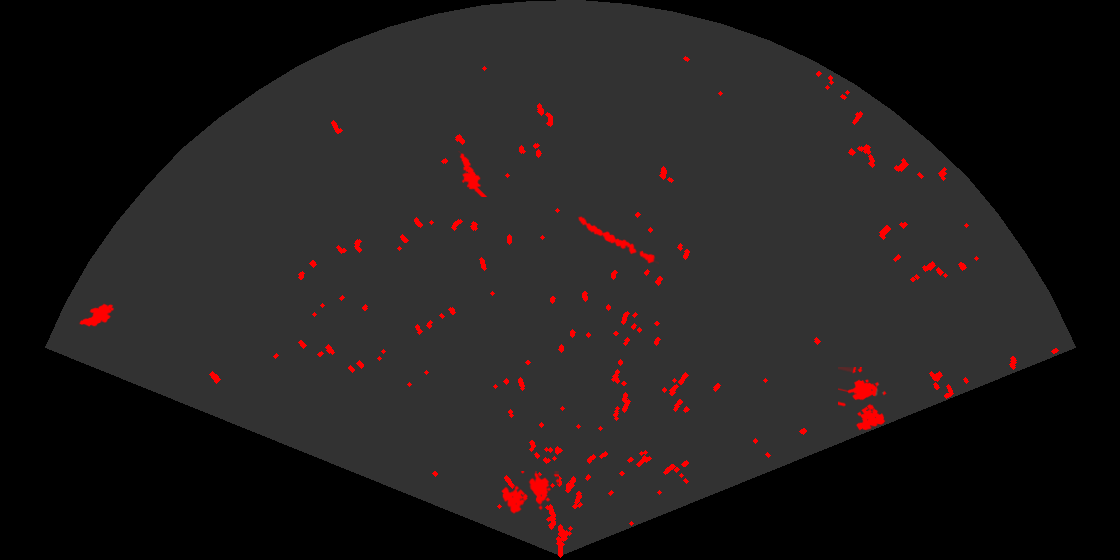AUV: (77, 302, 116, 328)
cage: (838, 367, 888, 432), (500, 471, 559, 515)
chain: (576, 215, 659, 266)
frogman: (456, 151, 489, 197)
